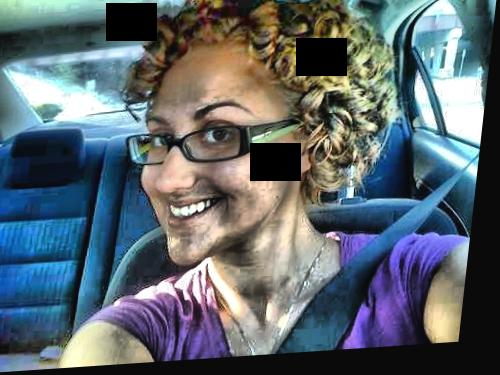seatbelt: (283, 159, 469, 348)
